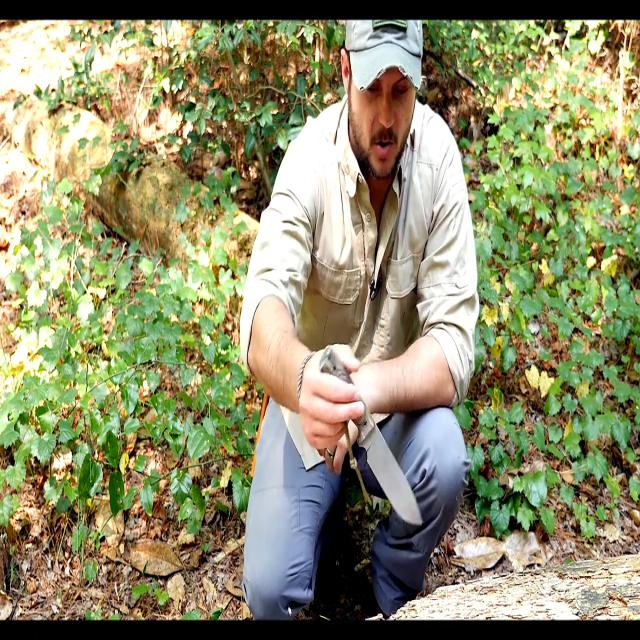knife: (316, 347, 428, 532)
